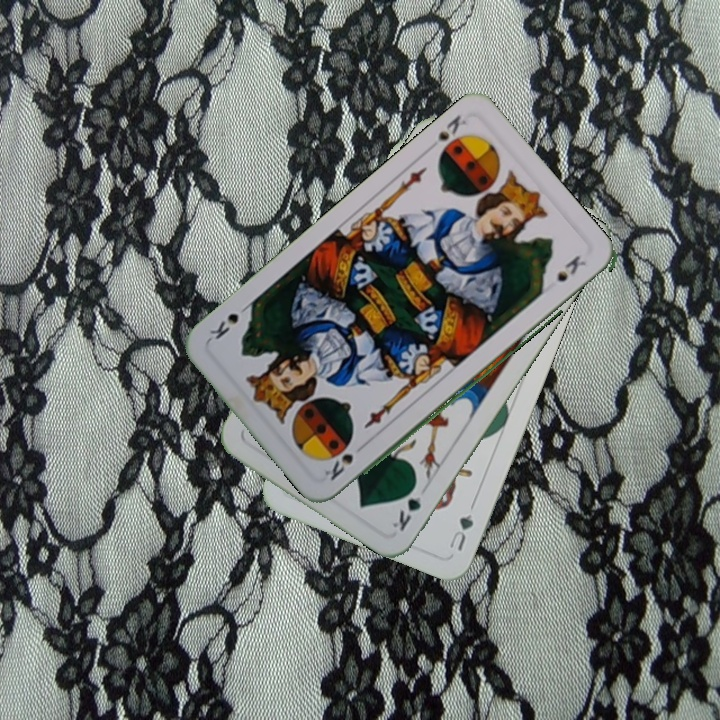GK: (388, 478, 424, 534)
GU: (445, 509, 476, 553)
SK: (423, 111, 469, 153), (320, 449, 356, 484)
